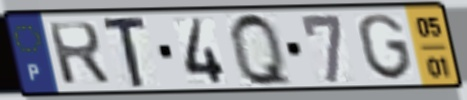4: (181, 15, 229, 87)
7: (297, 12, 348, 85)
G: (355, 12, 416, 83)
Q: (226, 9, 297, 89)
R: (44, 19, 114, 87)
T: (101, 13, 150, 91)
